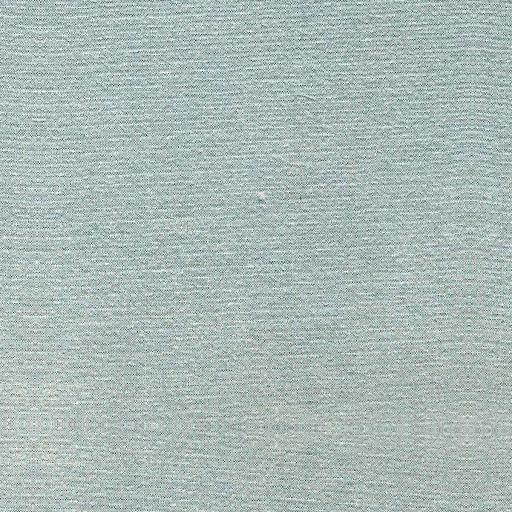knot: (250, 181, 275, 216)
